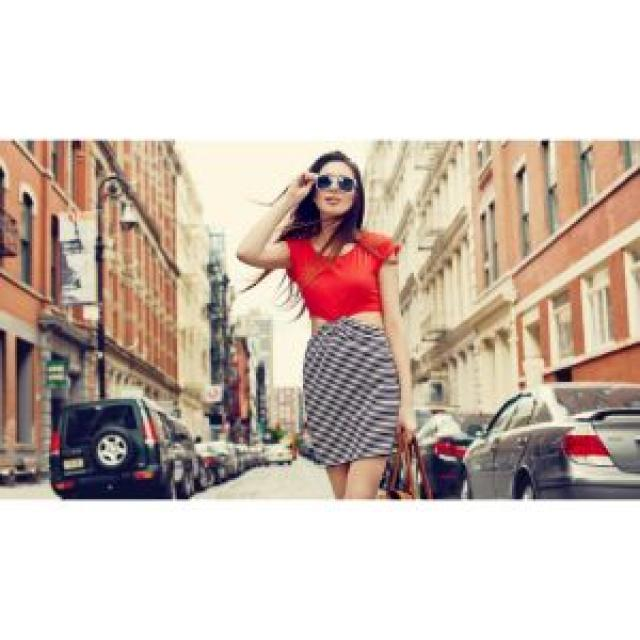nonfall: (261, 137, 416, 508)
